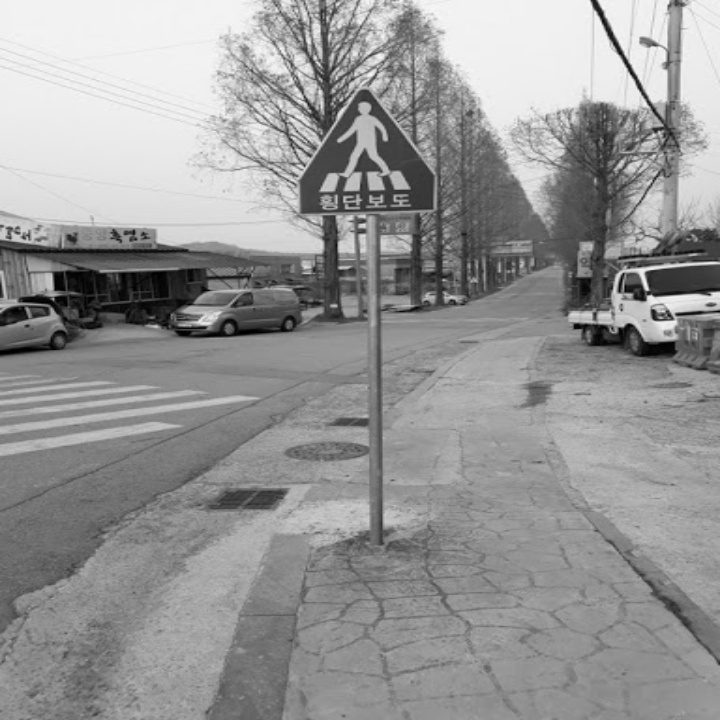cross: (314, 93, 417, 191)
